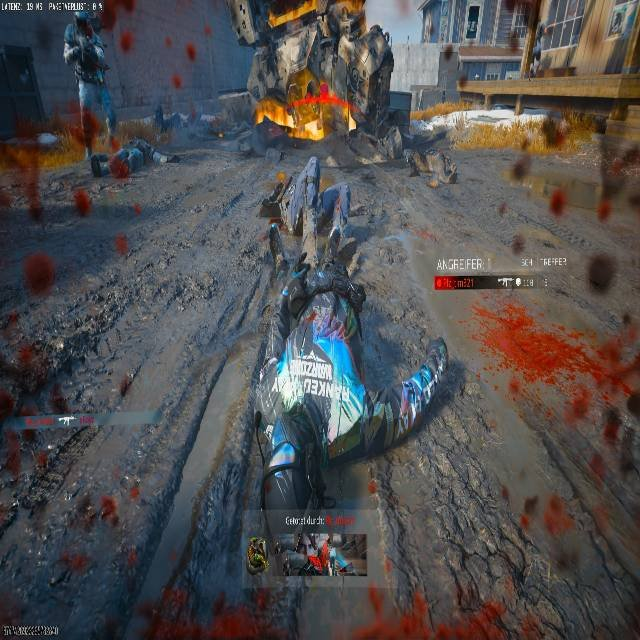head: (75, 14, 90, 29)
player: (62, 4, 116, 160)
